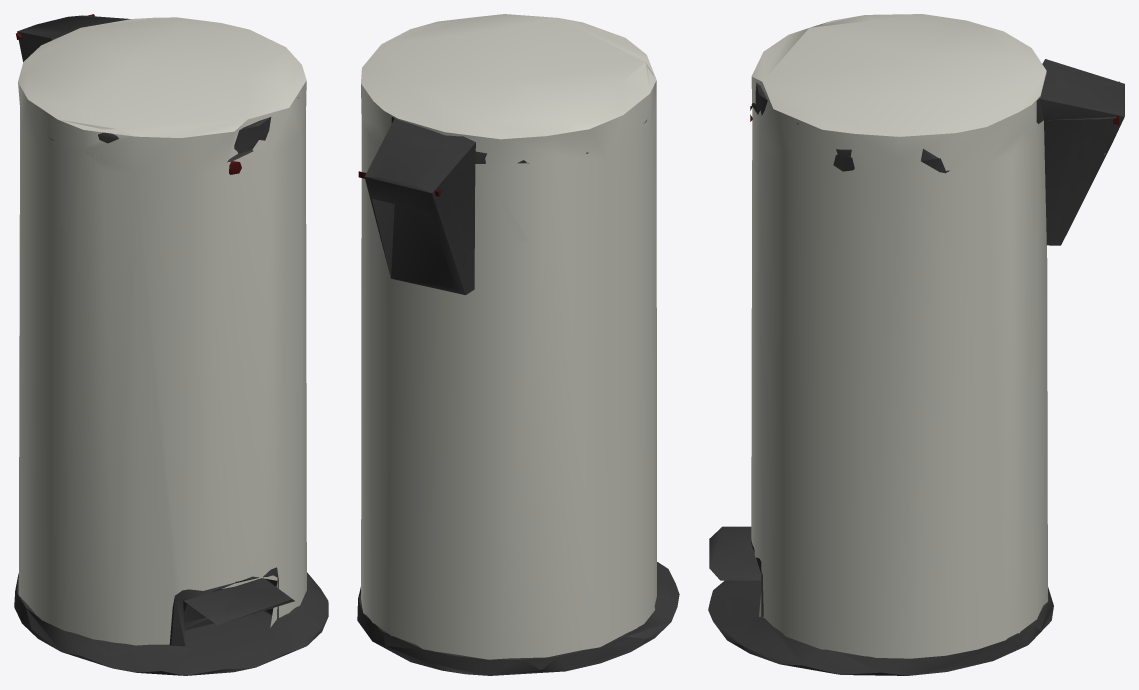
File: simready-bin-waste.lite.88365427.glb
3 renders of one model, left to right at view 1: azimuth 30°, elevation 25°; view 2: azimuth 150°, elevation 25°; view 3: azimuth 270°, elevation 25°, orthographic. The views are drawn at different scales.
Visible parts, largest first — view 1: model; view 2: model; view 3: model.
Boxes of the visible parts, <box> form: model: <box>14,14,328,675</box>; model: <box>357,14,679,675</box>; model: <box>708,14,1124,675</box>.
Bounding box in the file's own units: 0.3672 × 0.6993 × 0.4846.
5 materials, 2 textured.
